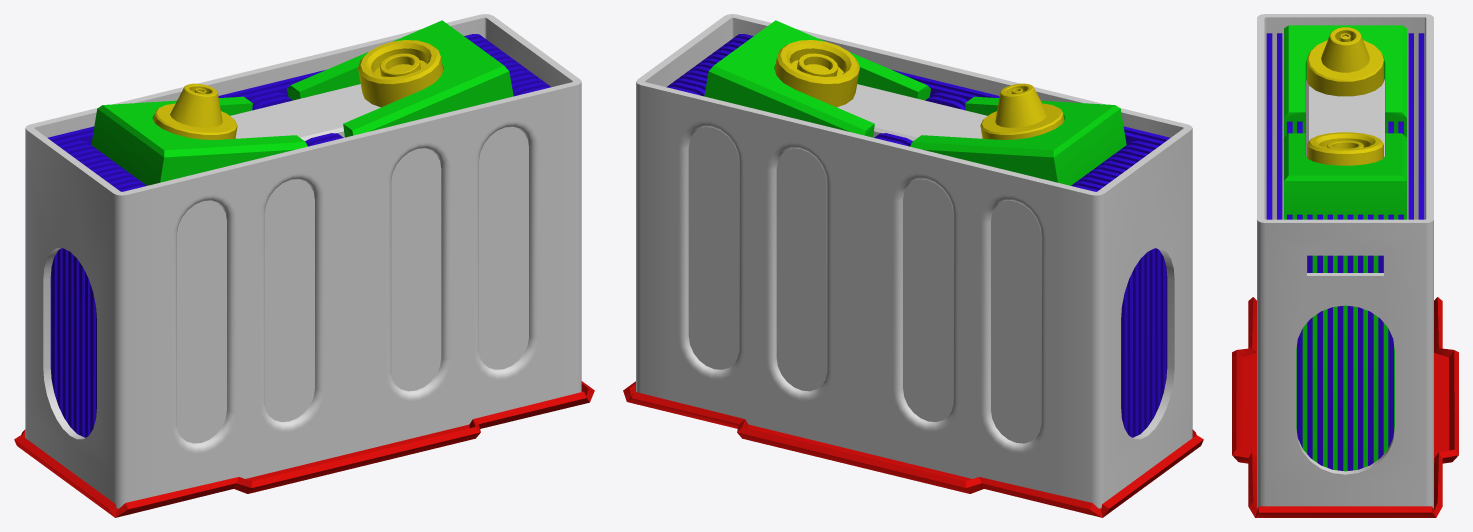
The model's file is A280C_Magazine.fbx.
The picture shows the model from 3 angles, left to right: view 1: azimuth 30°, elevation 25°; view 2: azimuth 150°, elevation 25°; view 3: azimuth 270°, elevation 25°; orthographic projection. The views are drawn at different scales.
Parts seen in each view (by area): view 1: Cube.004; view 2: Cube.004; view 3: Cube.004.
Part boxes in pixels (<box>): Cube.004: <box>14,14,594,517</box>; Cube.004: <box>623,14,1203,517</box>; Cube.004: <box>1232,14,1458,517</box>.
Size of the model in its own units: 2.82 by 6.4 by 4.65.
